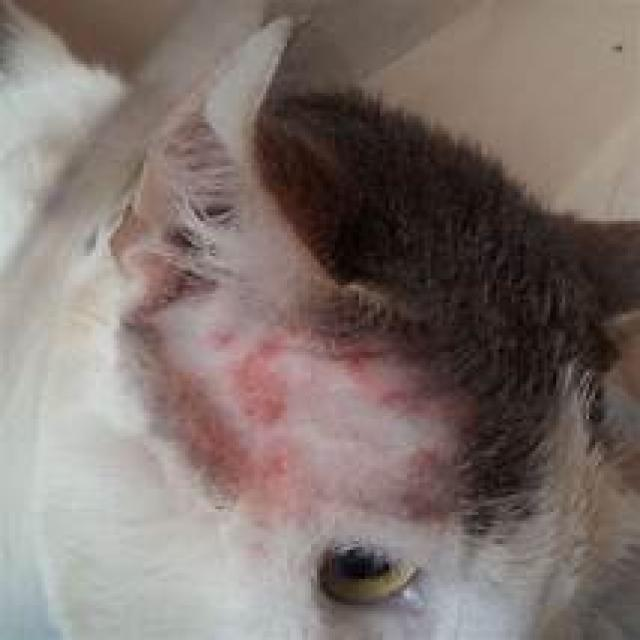cat-ringworm: (323, 326, 448, 438), (212, 340, 318, 433), (248, 435, 310, 498), (196, 322, 253, 358)
